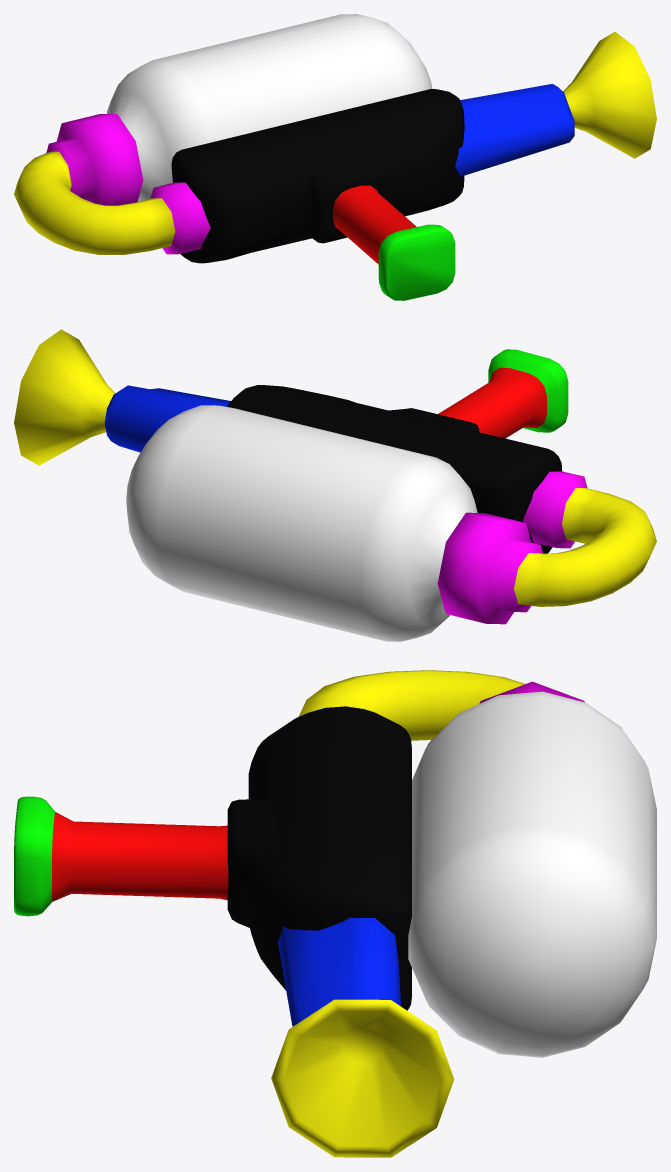
File: colorgun_for_substance.fbx
3 views of the same model, one above another, from view 1: azimuth 30°, elevation 25°; view 2: azimuth 150°, elevation 25°; view 3: azimuth 270°, elevation 25° (orthographic). The views are drawn at different scales.
Visible parts, largest first — view 1: PaintGun, Tank; view 2: Tank, PaintGun; view 3: PaintGun, Tank.
Part boxes in pixels (<box>): PaintGun: <box>14,32,656,300</box>; Tank: <box>107,14,432,201</box>; Tank: <box>126,405,477,641</box>; PaintGun: <box>14,329,656,624</box>; PaintGun: <box>14,670,584,1157</box>; Tank: <box>408,691,656,1057</box>.
Size of the model in its own units: 199 by 53.74 by 138.
